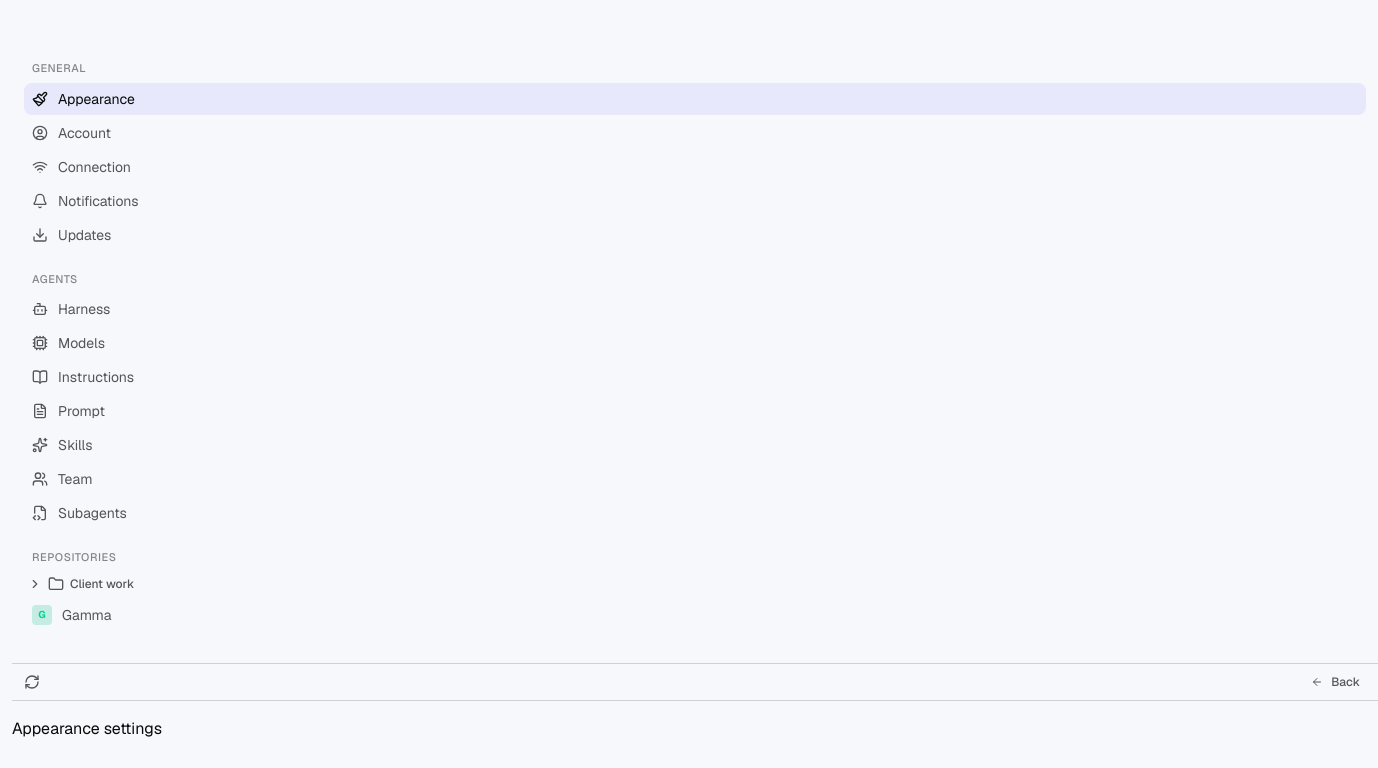
Test: SettingsSidebar › navigates to skills settings
Click the link "Skills".
click(62, 445)  # box [32,436,92,454]
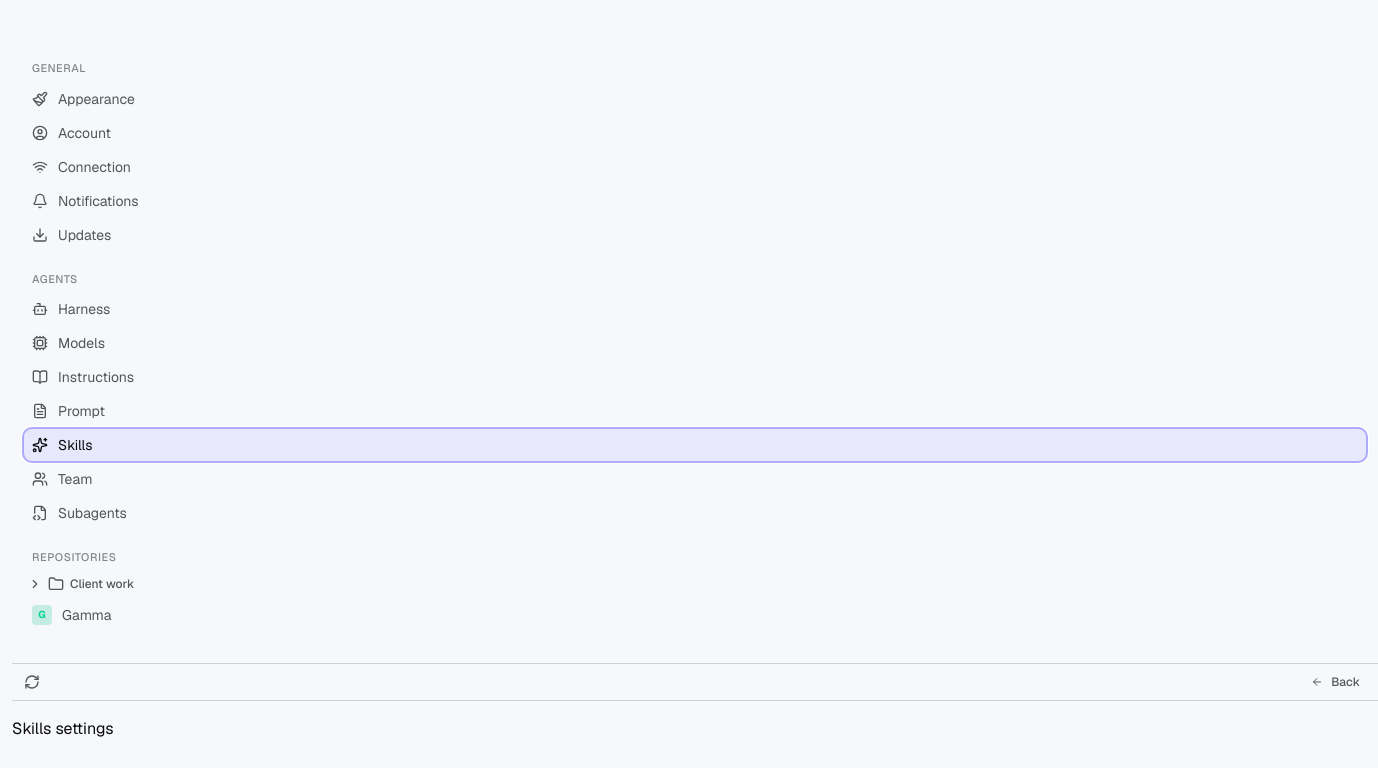
Expected: the text "Skills settings" is shown, [12,718,114,739]
